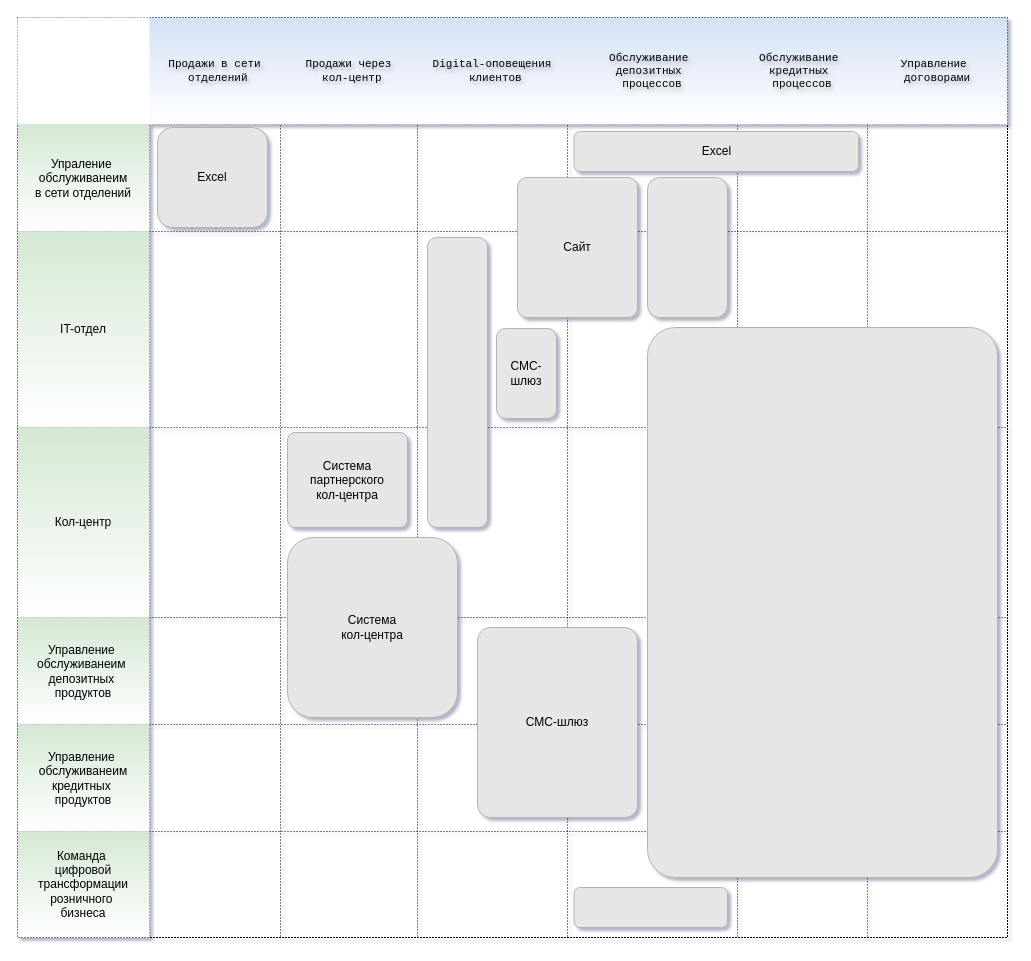
Image size: 1031x961. Some labels were removed from this diagram. Each missing label, with the centre of its shape:
"АБС" belongs at [822,602].
"Интернет- банк" belongs at [687,247].
"Интернет-банк" belongs at [650,907].
"Телеком- оператор" belongs at [457,382].
